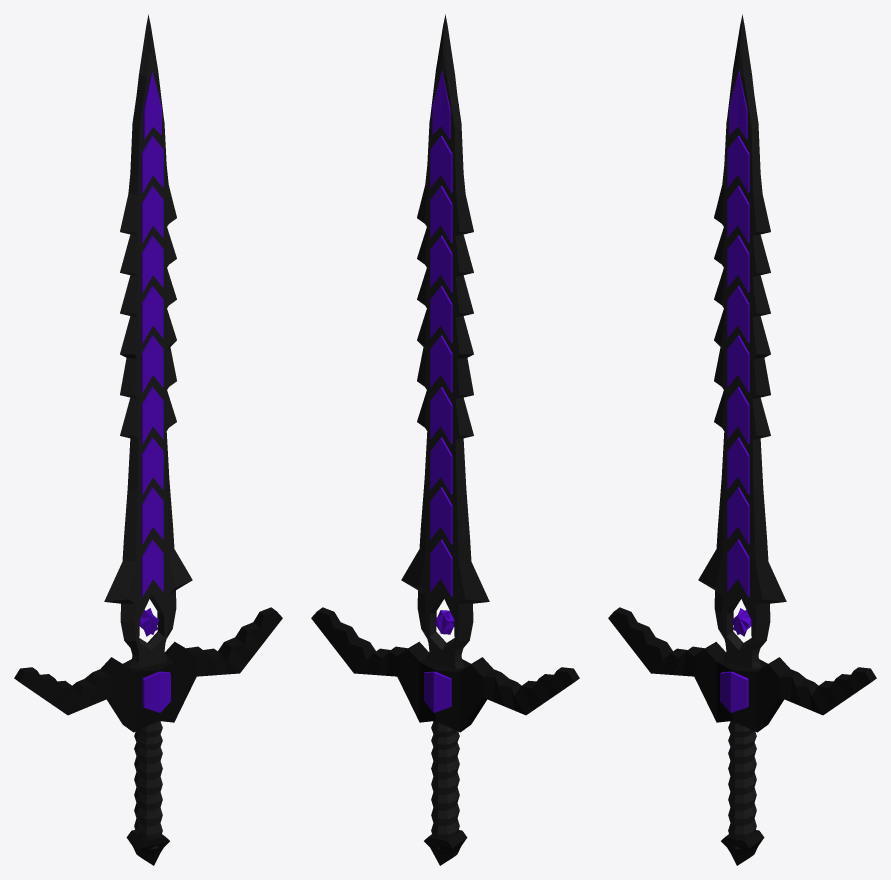
Rendered from shadow_blade.obj.
3 renders of one model, left to right at view 1: azimuth 30°, elevation 25°; view 2: azimuth 150°, elevation 25°; view 3: azimuth 330°, elevation 25°, orthographic.
Visible parts, largest first — view 1: Куб.003_Куб.018_Материал.002, Куб.003_Куб.018_Материал, Куб.003_Куб.018_Материал.001; view 2: Куб.003_Куб.018_Материал.002, Куб.003_Куб.018_Материал, Куб.003_Куб.018_Материал.001; view 3: Куб.003_Куб.018_Материал.002, Куб.003_Куб.018_Материал, Куб.003_Куб.018_Материал.001.
Boxes of the visible parts, <box> form: Куб.003_Куб.018_Материал.002: <box>104,14,192,849</box>; Куб.003_Куб.018_Материал: <box>139,71,170,712</box>; Куб.003_Куб.018_Материал.001: <box>14,607,282,865</box>; Куб.003_Куб.018_Материал.002: <box>401,14,489,849</box>; Куб.003_Куб.018_Материал: <box>424,71,458,712</box>; Куб.003_Куб.018_Материал.001: <box>311,607,579,865</box>; Куб.003_Куб.018_Материал.002: <box>698,14,786,849</box>; Куб.003_Куб.018_Материал: <box>720,71,751,712</box>; Куб.003_Куб.018_Материал.001: <box>608,607,876,865</box>.
Bounding box in the file's own units: 1.3 × 4 × 0.2.
